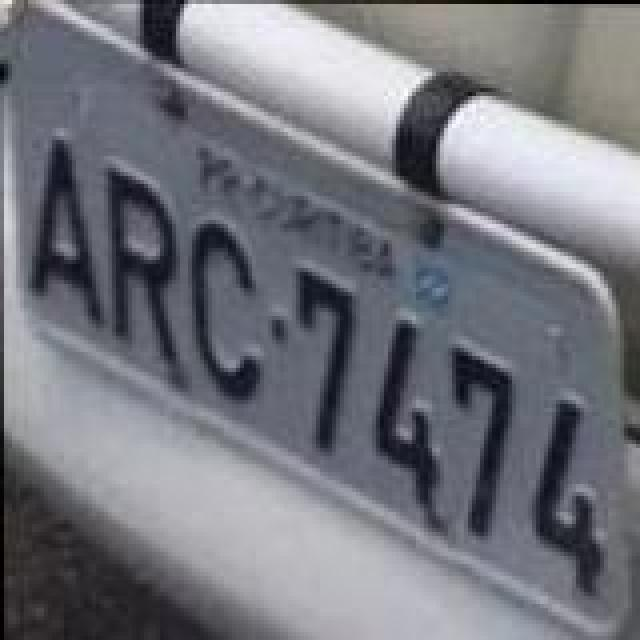4: (526, 400, 606, 600), (370, 316, 442, 512)
7: (294, 264, 366, 460), (446, 344, 518, 540)
A: (26, 134, 106, 330)
C: (184, 216, 268, 404)
R: (108, 160, 184, 368)
